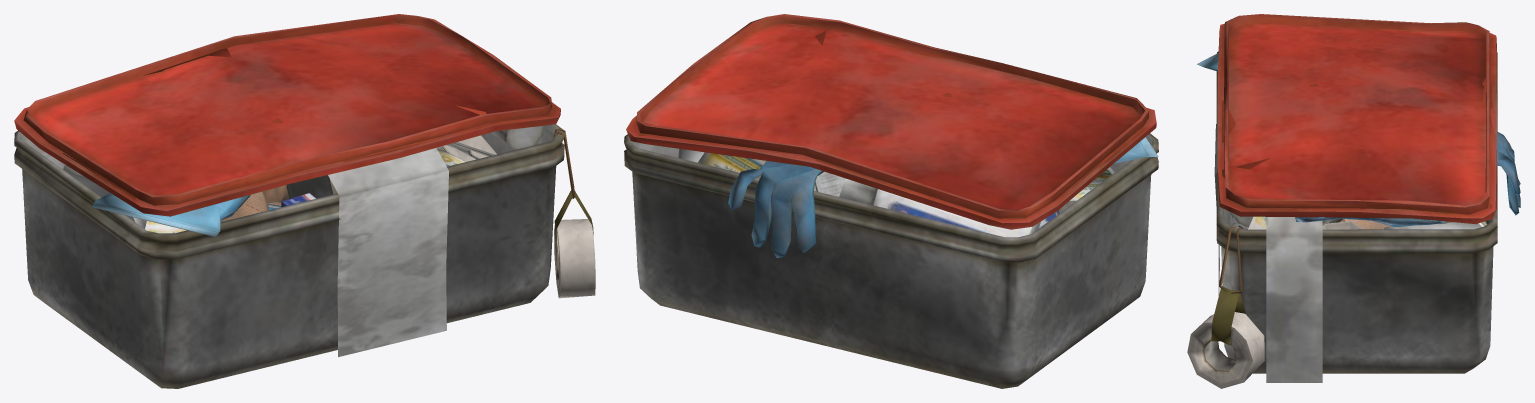
File: medkit.glb
The picture shows the model from 3 angles, left to right: view 1: azimuth 30°, elevation 25°; view 2: azimuth 150°, elevation 25°; view 3: azimuth 270°, elevation 25°; orthographic projection. The views are drawn at different scales.
Parts seen in each view (by area): view 1: pCylinder9; view 2: pCylinder9; view 3: pCylinder9.
Part boxes in pixels (<box>): pCylinder9: <box>14,14,595,388</box>; pCylinder9: <box>624,14,1158,388</box>; pCylinder9: <box>1187,14,1520,388</box>.
Size of the model in its own units: 0.3227 by 0.1364 by 0.2103.
2 materials, 2 textured.
